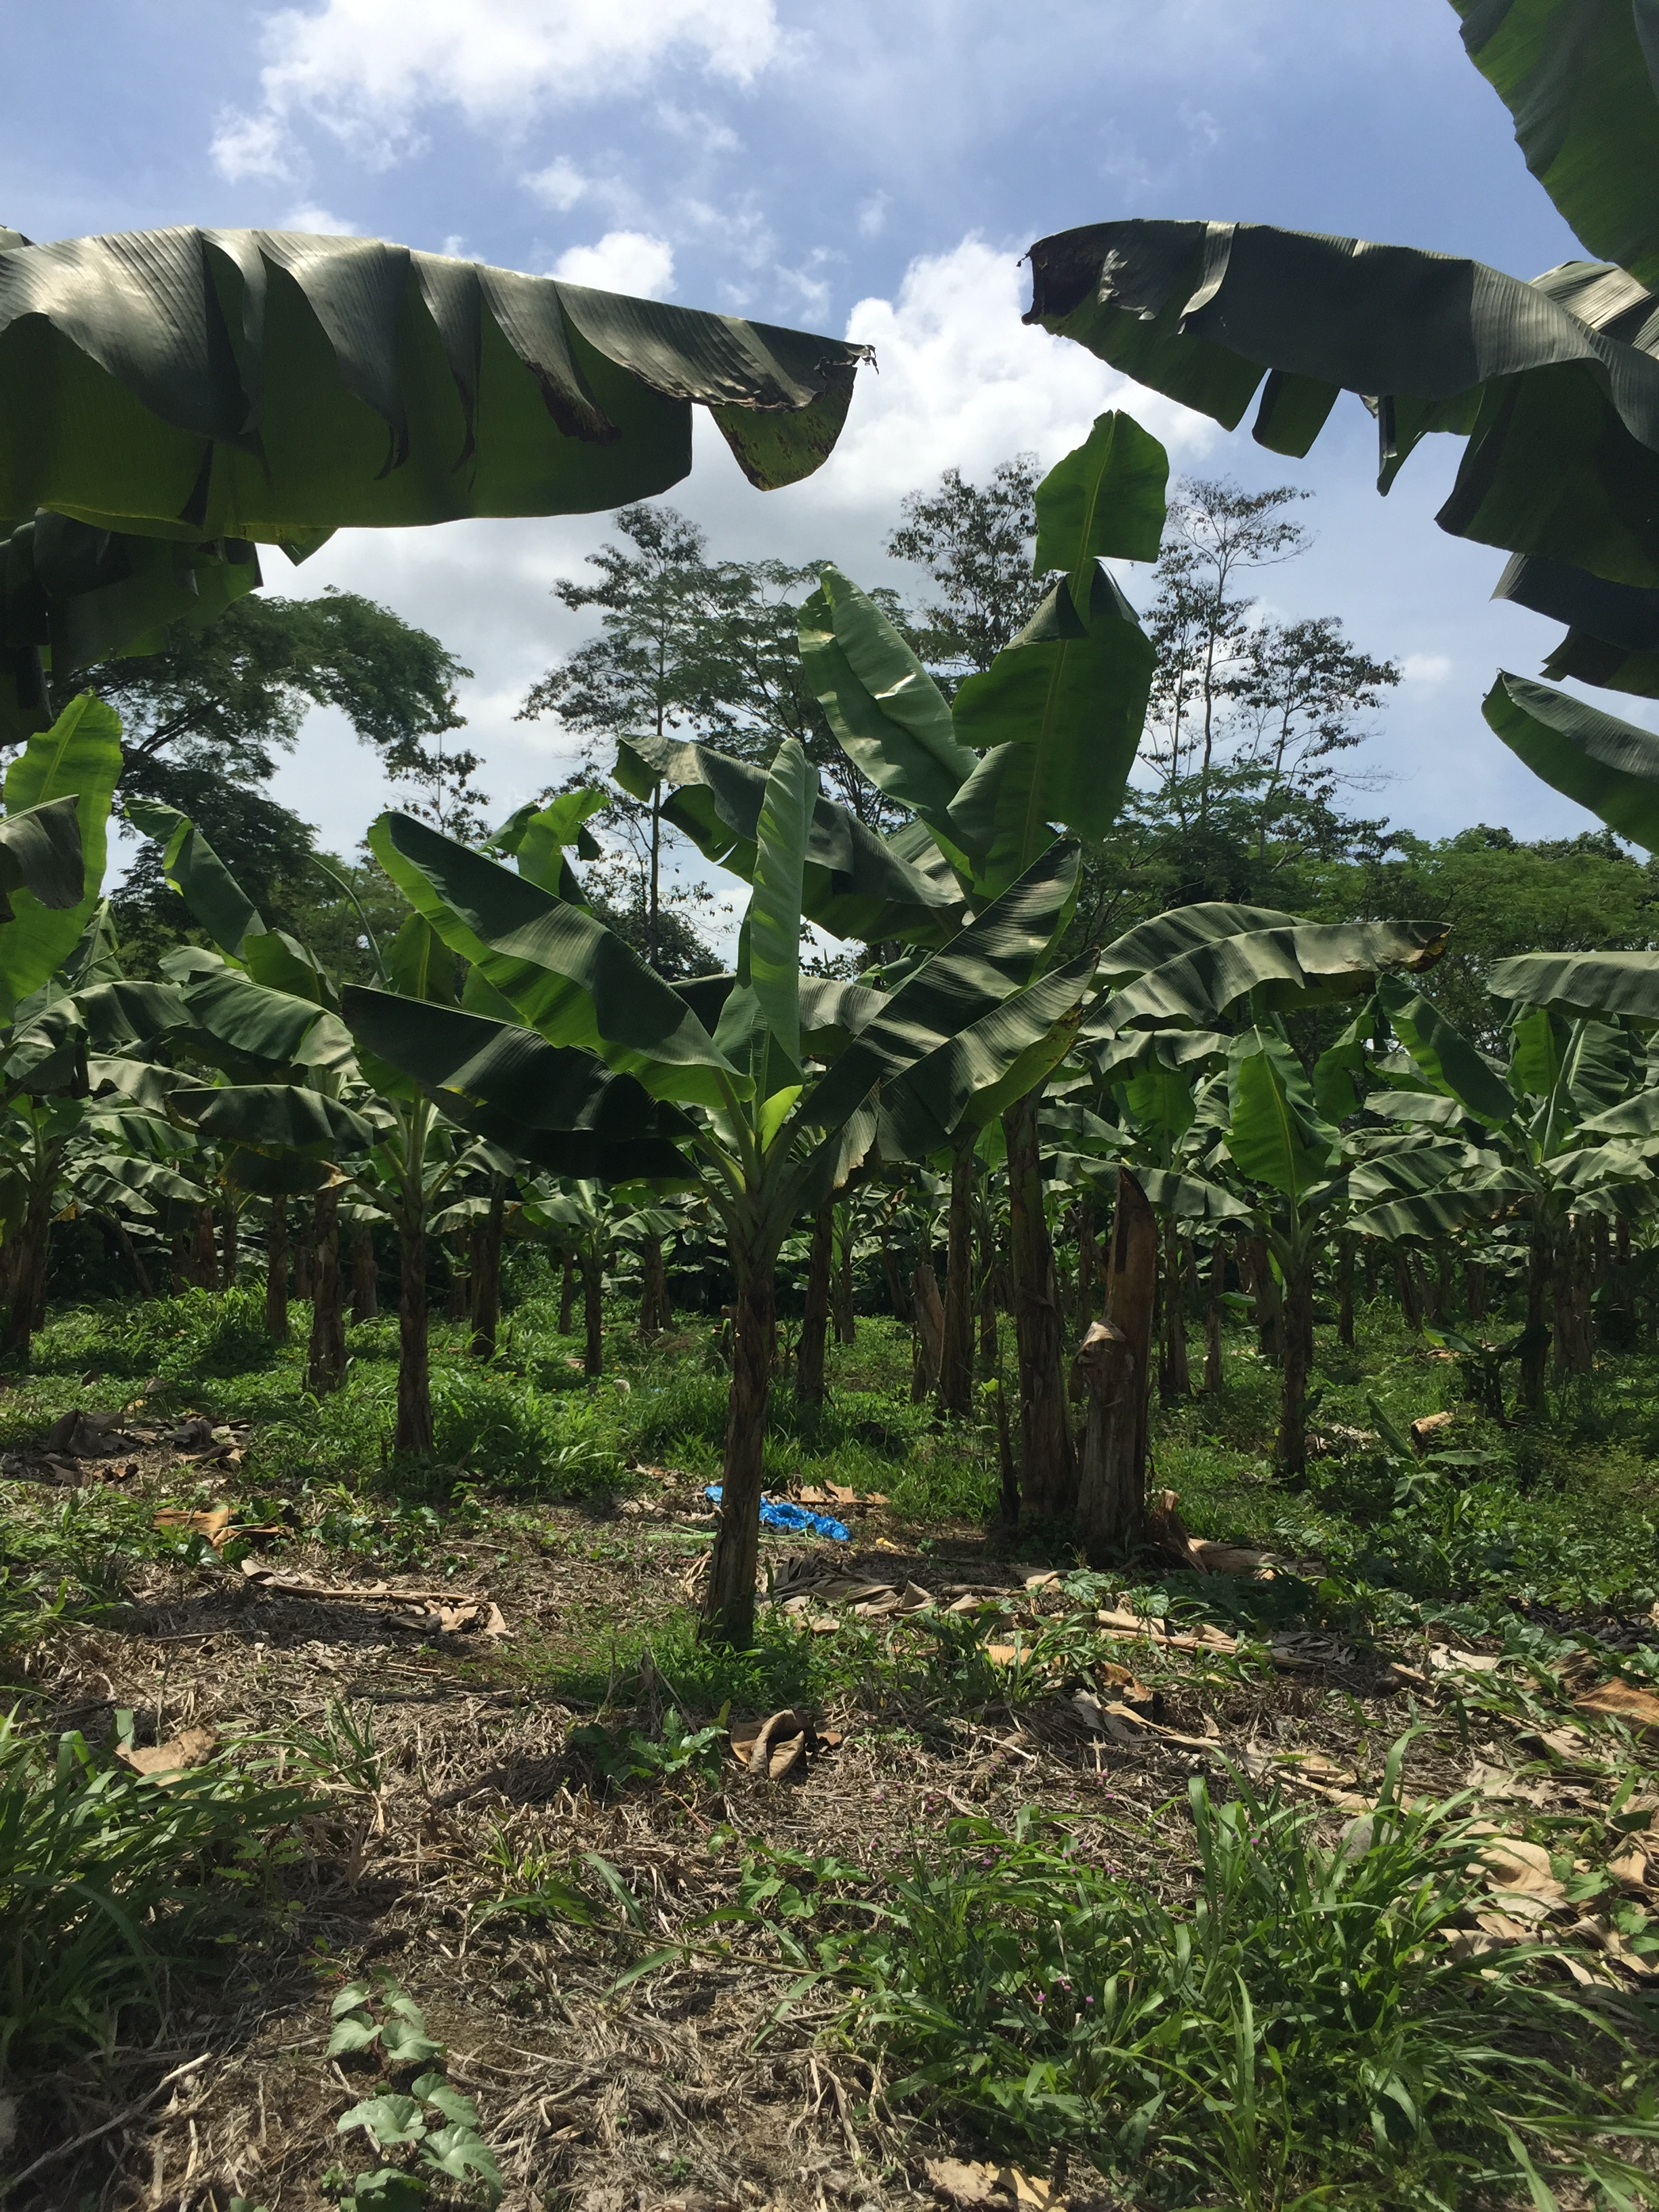candleleafs: (301, 853, 389, 984)
